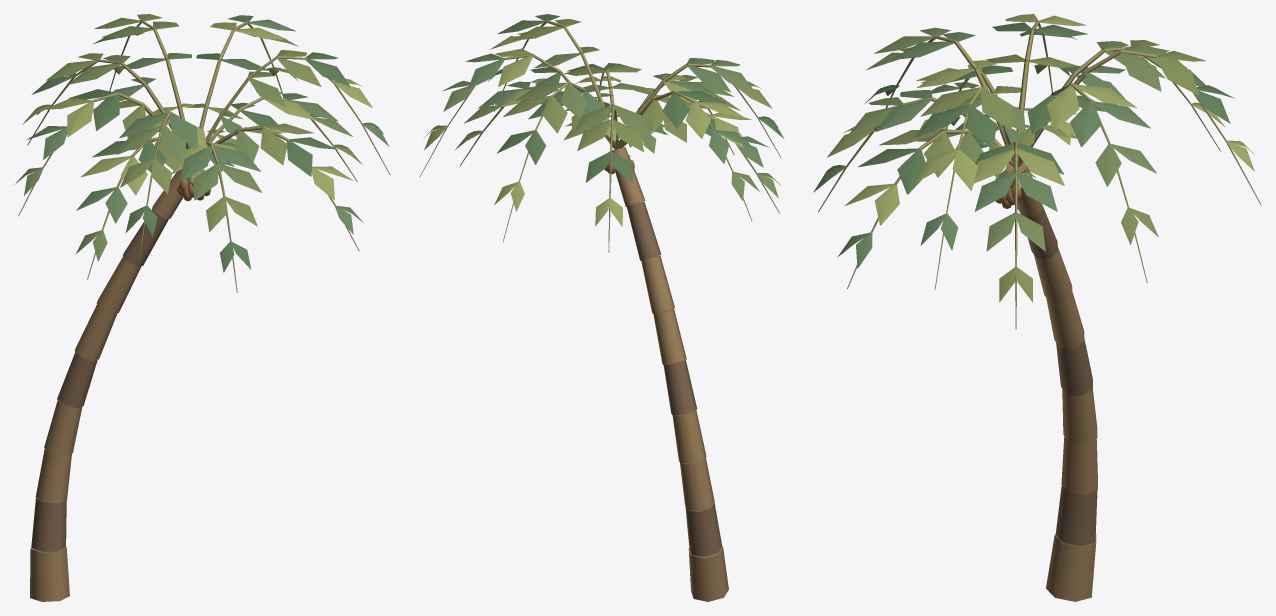
File: wind-palm-mid.glb
The picture shows the model from 3 angles, left to right: view 1: azimuth 30°, elevation 25°; view 2: azimuth 150°, elevation 25°; view 3: azimuth 270°, elevation 25°; orthographic projection. The views are drawn at different scales.
Visible parts, largest first — view 1: Crown_Foliage, Trunk_Wood; view 2: Crown_Foliage, Trunk_Wood; view 3: Crown_Foliage, Trunk_Wood.
Boxes of the visible parts, x1,y1,x2,y2 form: Crown_Foliage: (14,14,389,272); Trunk_Wood: (18,20,390,601); Crown_Foliage: (423,14,784,226); Trunk_Wood: (419,20,781,601); Crown_Foliage: (813,14,1254,302); Trunk_Wood: (818,20,1261,601).
Bounding box in the file's own units: 6.49 × 10 × 6.59.
